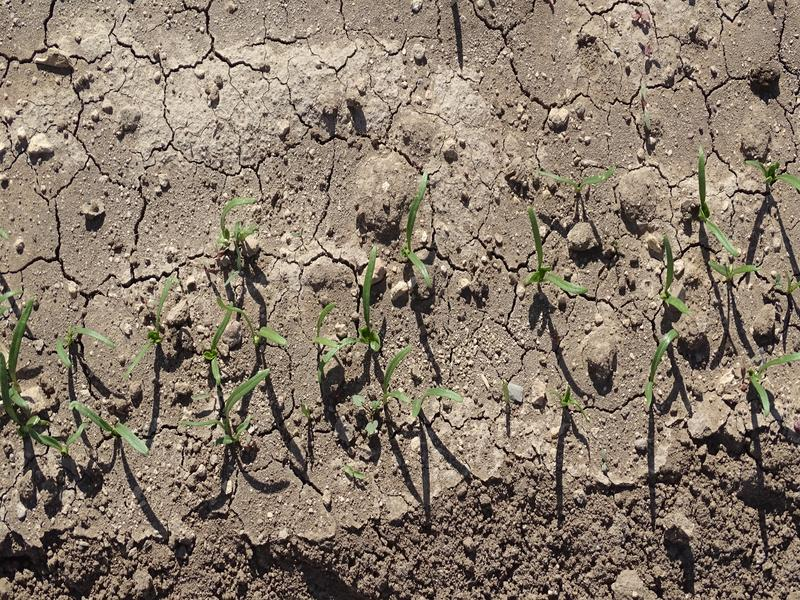Espinaca: (321, 182, 465, 418), (206, 206, 269, 453), (1, 284, 67, 453), (693, 147, 762, 278), (643, 239, 688, 410), (123, 271, 178, 380), (525, 200, 588, 292), (67, 397, 155, 453), (749, 350, 800, 409), (527, 162, 616, 189), (773, 166, 800, 191)
